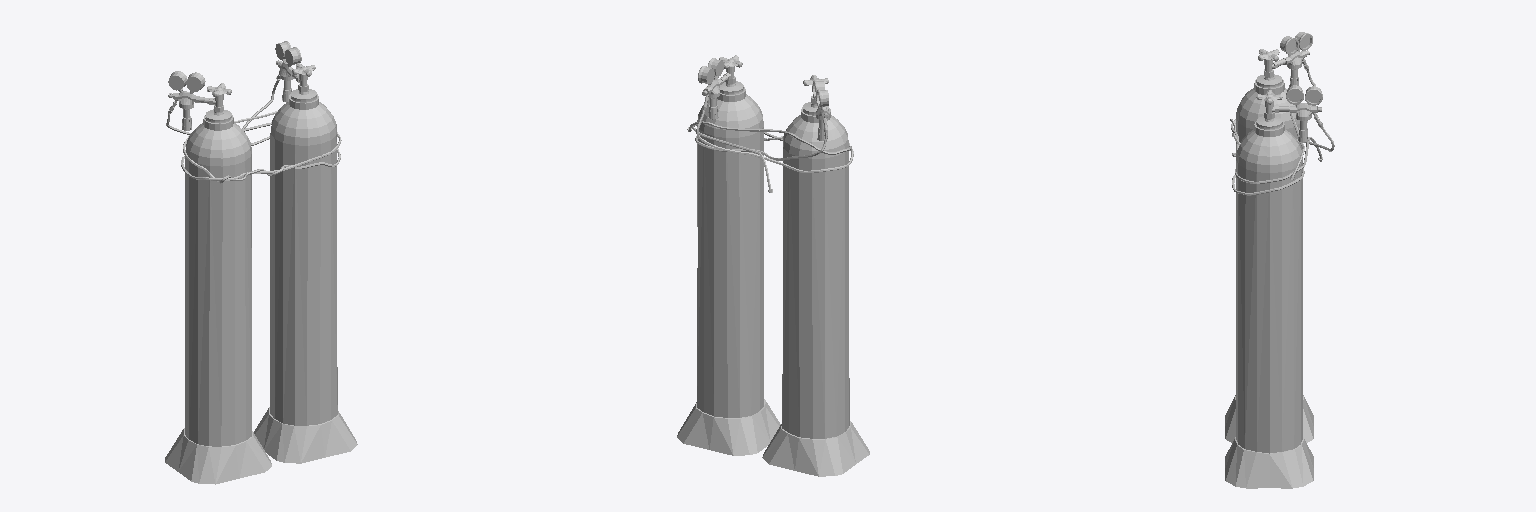
File: weldingcart.obj
3 renders of one model, left to right at view 1: azimuth 30°, elevation 25°; view 2: azimuth 150°, elevation 25°; view 3: azimuth 270°, elevation 25°, orthographic.
Parts seen in each view (by area): view 1: model_0; view 2: model_0; view 3: model_0.
Boxes of the visible parts, x1=… form: model_0: x1=165, y1=41, x2=357, y2=484; model_0: x1=677, y1=55, x2=869, y2=476; model_0: x1=1225, y1=32, x2=1334, y2=488.
Bounding box in the file's own units: 88.95 × 196 × 50.57.